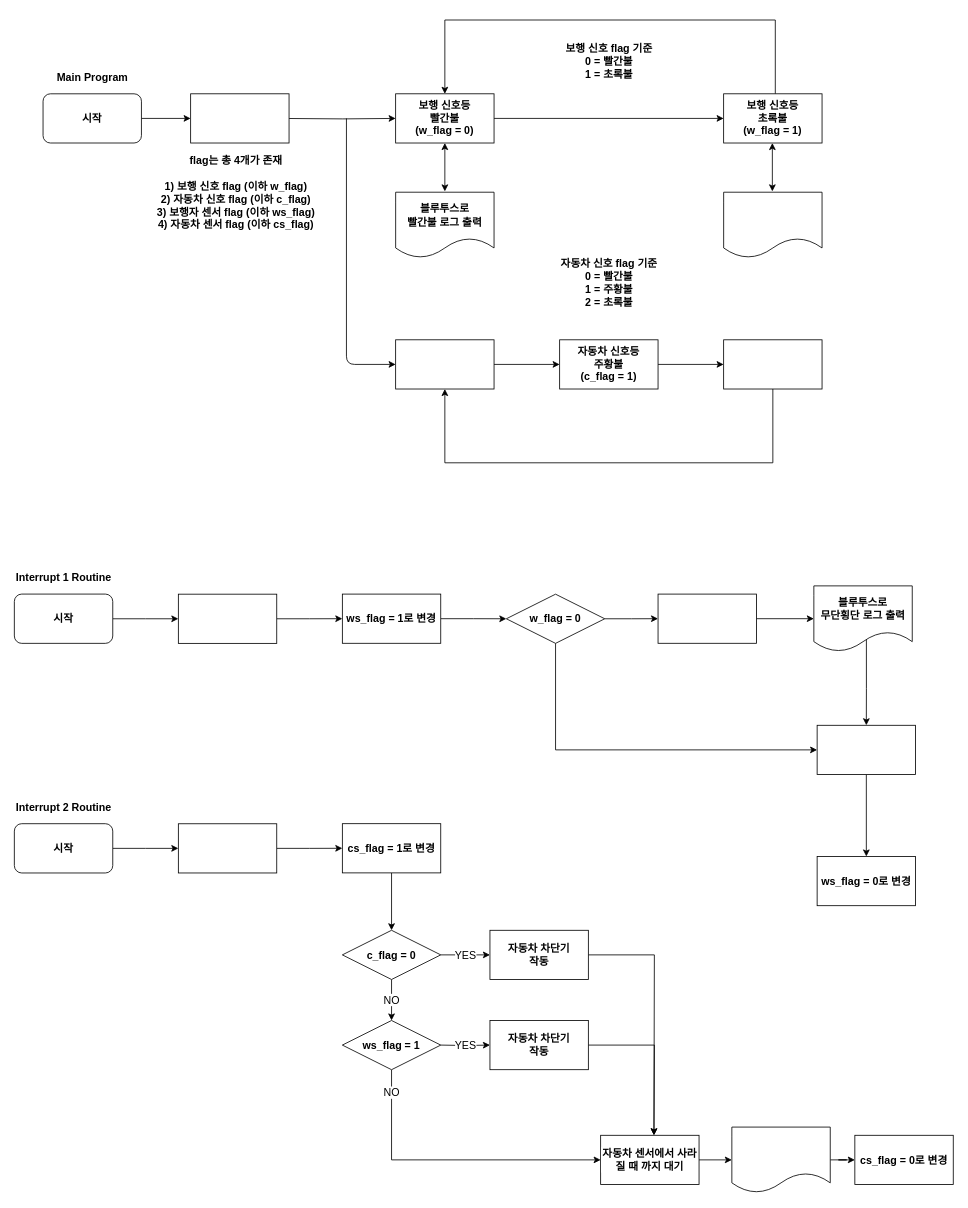
Image size: 968x1208. Some labels were removed from this diagram. The shapes that lost their labels are listed below. From the top down, each one's centre as x and y in pixels, then its label:
[239,118]: 신호등 타이머, 상태 flag들 초기화
[772,224]: 블루투스로 초록불 로그 출력
[444,364]: 자동차 신호등 초록불 (c_flag = 2)
[772,364]: 자동차 신호등 빨간불 (c_flag = 0)
[227,618]: 센서로 횡단보도 보행자 인식
[706,618]: 경보음 발생
[866,749]: 보행자 센서에서 사라질 때 까지 대기
[227,848]: 센서로 자동차 정지선 침범 인식
[780,1159]: 블루투스로 침범 로그 출력
